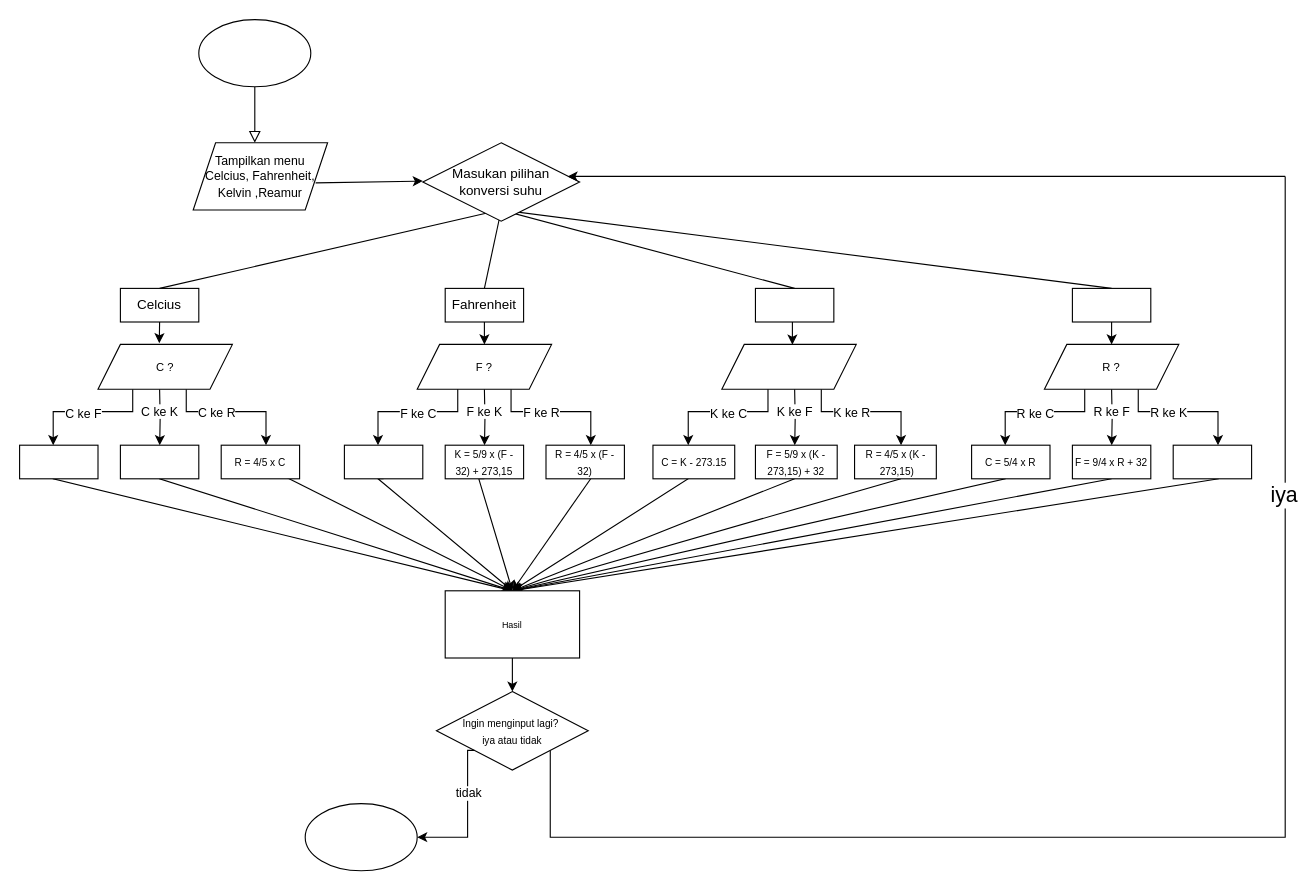
Some shapes in this 1316 by 890 pixel diagram are drawn without their labels. Each missing label, with the centre of its shape:
"Berhenti" goes at point (360, 836).
"C = 5/9 x (F - 32)" goes at point (383, 461).
"F = 9/5 x C + 32" goes at point (58, 461).
"K = 5/4 x R + 273.15" goes at point (1212, 461).
"K = C + 273,15" goes at point (159, 461).
"K ?" goes at point (788, 366).
"Kelvin" goes at point (794, 304).
"Mulai" goes at point (254, 52).
"Reamur" goes at point (1111, 304).
